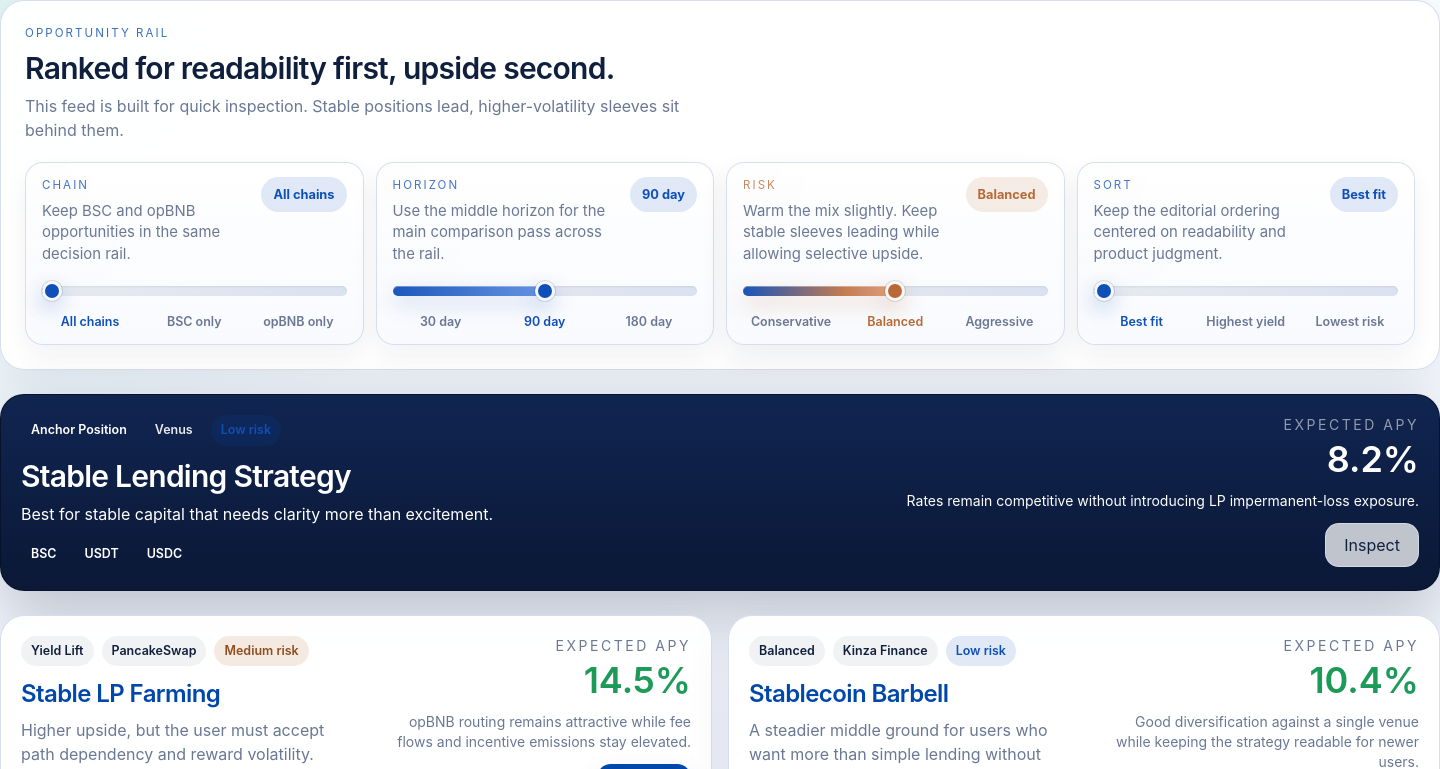
StrategyList › filters the rail to opBNB when the chain slider moves to opBNB only
The width and height of the screenshot is (1440, 769).
Expected: the heading "Stable Lending Strategy" is shown, [21,458,351,494]
Step 1. Set the slider named "Chain" to "2" → coordinates (338, 291), box [42,279,346,303]
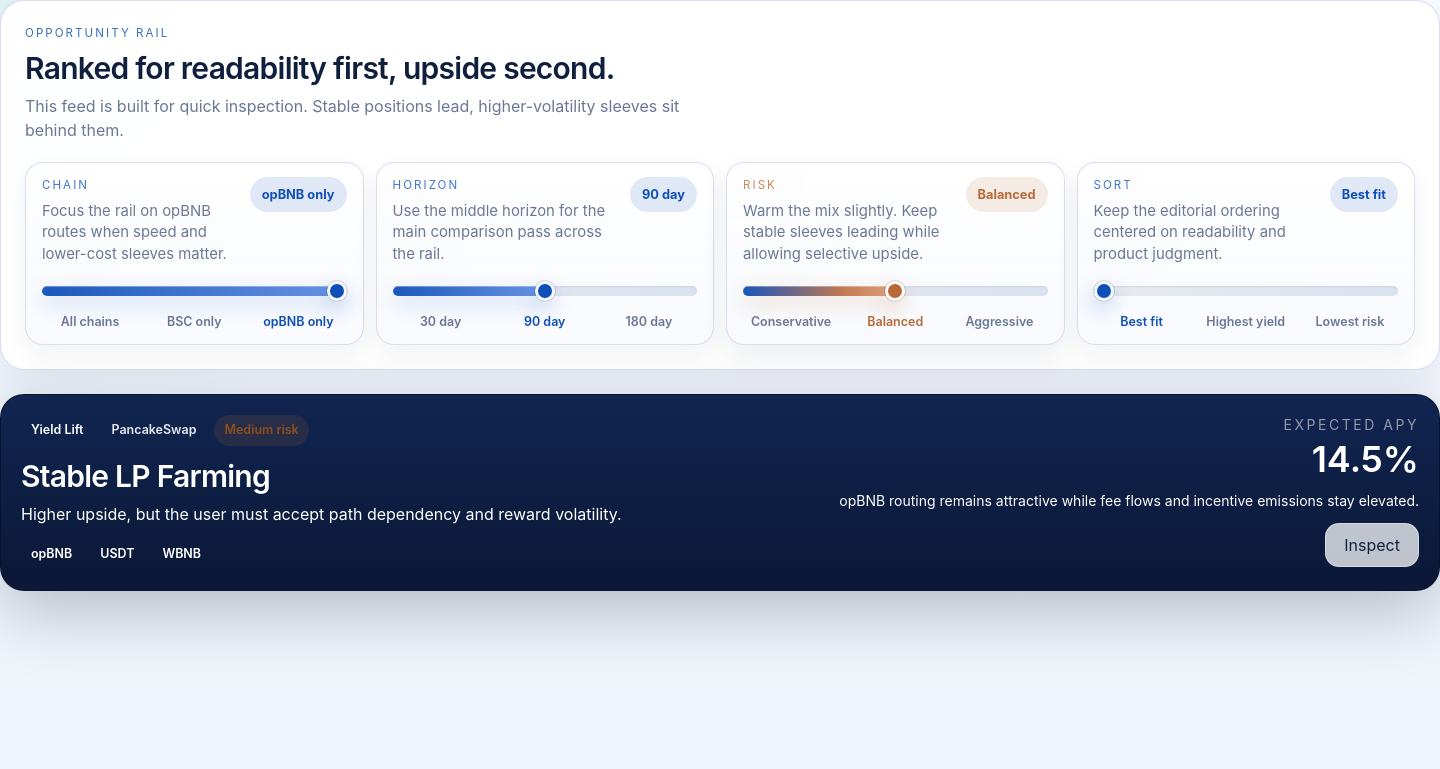
Result: the text "Focus the rail on opBNB routes when speed and lower-cost sleeves matter." is shown at [42,200,236,265]
Result: the heading "Stable LP Farming" is shown at [21,458,270,494]
Result: the heading "Stable Lending Strategy" is gone
